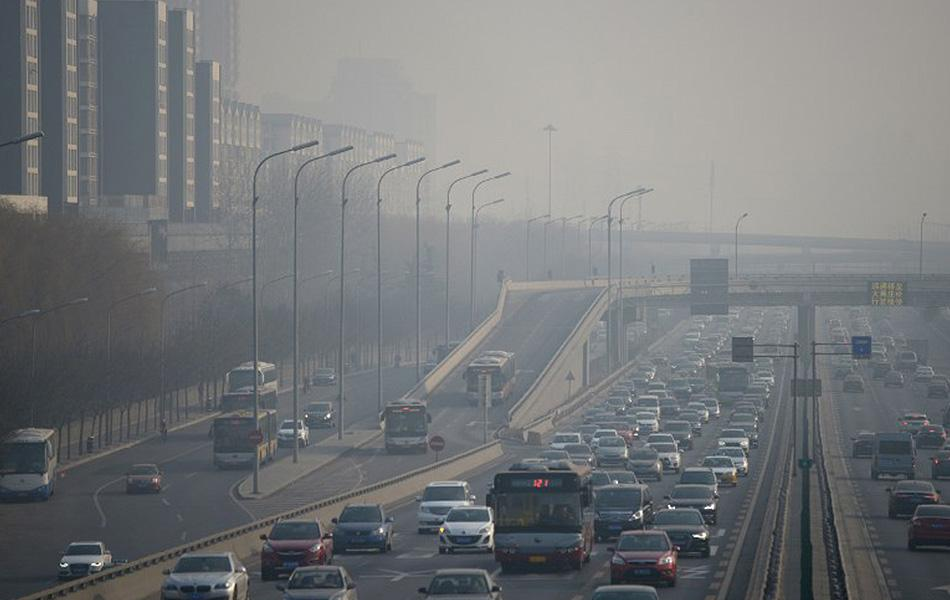bench: (649, 426, 685, 462), (592, 434, 627, 462), (580, 408, 627, 426), (631, 395, 671, 415), (659, 419, 692, 443), (588, 430, 625, 451), (594, 447, 627, 470), (659, 428, 690, 452), (549, 432, 585, 449)
boat: (670, 466, 717, 503), (645, 430, 680, 469), (626, 443, 666, 476), (646, 425, 685, 456), (657, 419, 691, 447)
bus: (385, 283, 620, 454), (496, 479, 651, 584), (488, 465, 591, 573), (452, 474, 558, 557), (382, 385, 492, 451), (211, 360, 278, 468), (485, 462, 579, 527), (462, 349, 517, 438), (590, 475, 653, 547), (0, 424, 58, 501), (605, 526, 679, 586), (210, 412, 270, 468), (417, 480, 474, 533), (382, 399, 432, 453), (666, 479, 718, 523), (867, 432, 913, 481), (57, 540, 111, 579), (909, 429, 947, 483), (841, 370, 868, 442), (915, 445, 949, 502), (886, 481, 938, 518), (301, 386, 337, 426), (715, 365, 747, 402), (893, 411, 928, 435)
car: (489, 483, 592, 574), (244, 507, 357, 589), (209, 376, 278, 473), (579, 510, 678, 577), (44, 546, 166, 595), (425, 500, 500, 576), (598, 471, 688, 533), (546, 447, 644, 502), (595, 487, 663, 563), (258, 517, 330, 581), (296, 507, 375, 564), (158, 551, 250, 599), (589, 473, 652, 542), (607, 528, 679, 586), (623, 513, 698, 568), (652, 483, 715, 541), (663, 467, 723, 526), (272, 549, 351, 593), (643, 507, 711, 558), (330, 502, 394, 555), (579, 466, 646, 516), (421, 487, 481, 542), (606, 430, 682, 471), (598, 450, 659, 500), (555, 440, 628, 480), (505, 538, 588, 573), (602, 436, 662, 484), (278, 564, 358, 599), (381, 398, 430, 454), (617, 422, 691, 459), (436, 506, 493, 553), (420, 568, 503, 599), (210, 419, 260, 470), (564, 429, 629, 468), (416, 480, 474, 523), (630, 437, 690, 478), (868, 432, 913, 482), (19, 568, 94, 598), (686, 446, 745, 484), (886, 479, 939, 519), (905, 502, 948, 551), (909, 429, 947, 483), (56, 539, 111, 576), (913, 446, 950, 500), (499, 433, 562, 463), (50, 558, 107, 591), (900, 489, 940, 536), (504, 455, 574, 481), (591, 458, 642, 493), (643, 409, 691, 446), (648, 505, 708, 534), (897, 419, 944, 456), (655, 496, 711, 527), (908, 373, 948, 416), (591, 443, 643, 476), (666, 481, 715, 516), (670, 469, 716, 505), (584, 469, 637, 500), (854, 431, 896, 470), (662, 390, 716, 420), (636, 398, 688, 429), (693, 434, 747, 463), (711, 362, 750, 402), (652, 422, 688, 465), (717, 402, 762, 436), (495, 426, 549, 454), (700, 426, 754, 454), (377, 395, 429, 424), (654, 399, 698, 433), (644, 432, 681, 472), (290, 406, 329, 443), (615, 451, 660, 483), (304, 374, 336, 418), (511, 445, 571, 468), (626, 443, 666, 476), (301, 367, 338, 402), (692, 457, 732, 489), (544, 437, 585, 468), (589, 432, 626, 466), (123, 462, 162, 494), (462, 413, 505, 442), (682, 490, 719, 523), (625, 403, 667, 432), (552, 443, 593, 472), (589, 583, 658, 600), (678, 465, 719, 492), (711, 444, 746, 474), (928, 453, 949, 503), (896, 414, 938, 439), (702, 453, 739, 481), (714, 430, 748, 460), (666, 404, 705, 429), (922, 444, 949, 480), (519, 453, 568, 472), (301, 401, 334, 429), (659, 420, 692, 447), (277, 419, 308, 447), (644, 359, 683, 381), (649, 429, 684, 453), (720, 418, 754, 442), (911, 426, 945, 450), (552, 436, 589, 458), (631, 395, 671, 415), (592, 425, 632, 445), (641, 445, 674, 469), (536, 448, 573, 469), (643, 433, 675, 457), (663, 360, 703, 379), (626, 378, 667, 396), (703, 445, 743, 463), (894, 411, 928, 432), (685, 398, 716, 421), (664, 414, 696, 436), (715, 427, 749, 447), (725, 425, 759, 445), (594, 469, 636, 485), (717, 443, 752, 462), (586, 429, 619, 449), (630, 398, 660, 420), (627, 445, 658, 466), (850, 432, 875, 458), (713, 461, 738, 487), (307, 367, 336, 389), (668, 378, 705, 395), (635, 383, 672, 400), (56, 561, 87, 581), (725, 408, 759, 426), (711, 438, 745, 456), (668, 356, 703, 373), (921, 476, 943, 503), (662, 432, 687, 455), (654, 448, 680, 470), (636, 392, 674, 407), (674, 410, 701, 431), (726, 403, 759, 420), (679, 402, 707, 422), (738, 390, 767, 409), (731, 397, 763, 414), (698, 452, 732, 468), (274, 420, 294, 447), (634, 411, 658, 433), (87, 559, 111, 581), (732, 429, 757, 450), (576, 426, 608, 442), (548, 432, 582, 447), (318, 529, 333, 563), (698, 396, 719, 420), (688, 394, 719, 410), (514, 458, 552, 471), (911, 364, 933, 386), (928, 480, 948, 504), (292, 419, 309, 447), (892, 350, 917, 369), (603, 395, 629, 413), (702, 495, 718, 524), (740, 426, 761, 448), (669, 432, 693, 451), (919, 422, 944, 440), (667, 385, 695, 401), (727, 454, 748, 475), (882, 369, 904, 388), (631, 394, 660, 408), (424, 432, 443, 453), (641, 381, 668, 395)
chair: (667, 473, 716, 509), (645, 430, 680, 469), (674, 467, 718, 498), (625, 446, 661, 481), (594, 437, 627, 469), (634, 395, 667, 423), (591, 430, 625, 455), (561, 443, 593, 469), (552, 436, 589, 458), (536, 448, 573, 469), (662, 425, 690, 452), (647, 427, 681, 449), (660, 419, 692, 440), (594, 469, 636, 485), (594, 453, 627, 471), (679, 402, 707, 422), (631, 394, 661, 412), (634, 410, 658, 432), (576, 426, 608, 442), (548, 432, 582, 447), (587, 428, 618, 443), (603, 395, 628, 413)
person: (562, 446, 597, 494), (279, 419, 307, 447), (548, 503, 574, 525), (536, 503, 560, 524), (292, 419, 309, 447), (615, 426, 637, 446)
train: (392, 274, 803, 460), (438, 283, 688, 508), (380, 284, 617, 455), (478, 283, 648, 442), (439, 332, 617, 442), (213, 356, 277, 455), (0, 424, 58, 501), (462, 348, 517, 428), (833, 356, 870, 460)
truck: (387, 283, 625, 456), (487, 467, 588, 573), (210, 356, 277, 469), (591, 490, 665, 566), (381, 390, 470, 453), (258, 517, 330, 580), (0, 423, 57, 502), (296, 507, 375, 564), (267, 546, 355, 596), (157, 551, 248, 599), (589, 475, 652, 544), (841, 374, 892, 458), (606, 529, 680, 585), (623, 513, 698, 568), (893, 432, 950, 500), (643, 507, 711, 558), (330, 502, 394, 554), (433, 504, 494, 554), (415, 480, 475, 530), (424, 493, 481, 544), (382, 400, 430, 454), (282, 565, 358, 599), (893, 419, 947, 466), (665, 478, 717, 525), (419, 569, 499, 598), (867, 432, 913, 481), (58, 540, 111, 579), (905, 502, 947, 551), (909, 429, 947, 483), (885, 481, 937, 520), (915, 445, 949, 502), (854, 431, 896, 470), (642, 432, 681, 471), (671, 467, 717, 500), (304, 374, 336, 418), (627, 443, 665, 478), (301, 367, 338, 402), (123, 462, 162, 494), (709, 432, 749, 463), (648, 426, 686, 458), (552, 443, 593, 472), (715, 365, 747, 402), (589, 583, 658, 600), (658, 418, 693, 450), (711, 444, 746, 474), (699, 454, 734, 484), (722, 412, 759, 440), (922, 444, 949, 480), (300, 401, 334, 429), (276, 419, 307, 448), (673, 403, 708, 428), (893, 411, 928, 435), (911, 427, 944, 452), (929, 452, 949, 493), (715, 427, 750, 450), (688, 396, 719, 420), (724, 408, 759, 428), (851, 431, 875, 458), (307, 367, 336, 389), (634, 411, 658, 433)
tv: (715, 365, 749, 400)
